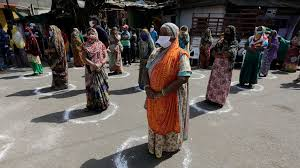mask: (156, 22, 178, 49), (222, 25, 238, 43), (85, 26, 99, 42), (46, 24, 59, 38), (180, 24, 189, 38), (120, 22, 130, 34), (255, 23, 264, 34), (21, 26, 30, 36), (148, 24, 156, 32), (111, 24, 117, 34)
